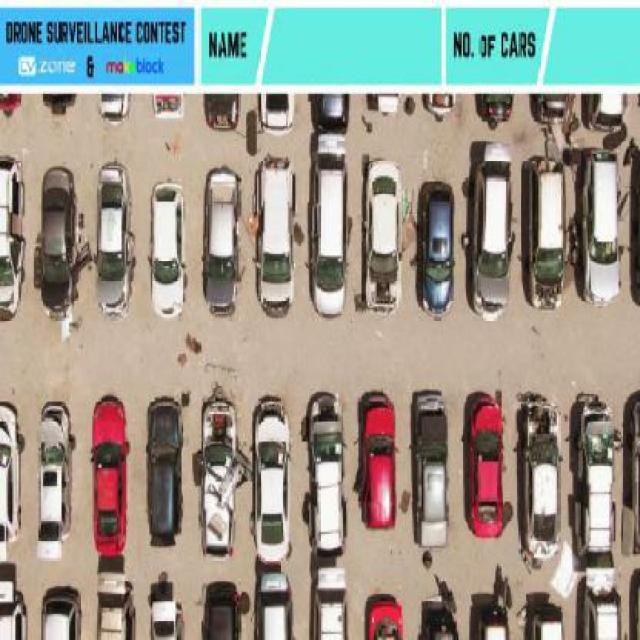car: (520, 146, 565, 311), (576, 149, 622, 307), (309, 388, 351, 556), (410, 388, 453, 548), (519, 402, 562, 562), (36, 165, 80, 317), (255, 156, 295, 316), (574, 397, 614, 556), (470, 148, 505, 322), (363, 158, 399, 320), (464, 399, 505, 536), (255, 402, 290, 562), (361, 390, 400, 532), (198, 397, 234, 549), (92, 397, 126, 548), (95, 158, 127, 316), (421, 182, 457, 322), (150, 398, 185, 536), (315, 138, 342, 316), (207, 162, 236, 312), (0, 398, 28, 550), (152, 184, 183, 320), (38, 402, 67, 540), (316, 52, 356, 133), (311, 565, 348, 640), (0, 561, 34, 640), (258, 566, 294, 640), (540, 56, 579, 124), (422, 51, 463, 113), (97, 54, 131, 127), (260, 58, 292, 135), (207, 65, 242, 135), (97, 577, 132, 640), (483, 55, 513, 127), (202, 579, 235, 640), (584, 584, 617, 640), (151, 587, 184, 640), (367, 595, 402, 640), (475, 600, 514, 640), (591, 89, 625, 132), (44, 599, 77, 640), (526, 609, 565, 640), (424, 600, 450, 640)
